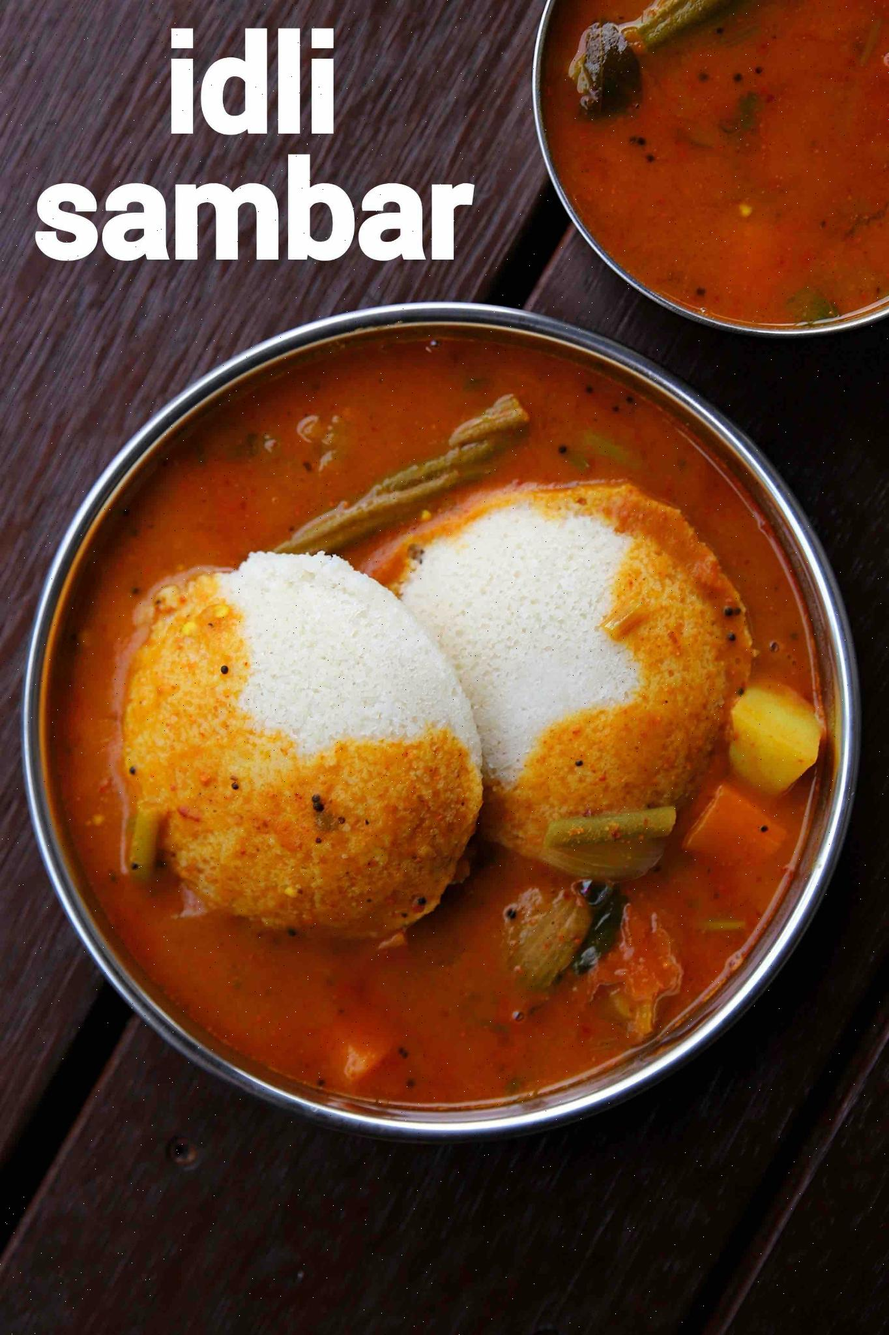idli: (168, 565, 671, 887)
sambhar: (542, 0, 889, 317), (190, 361, 664, 524)
